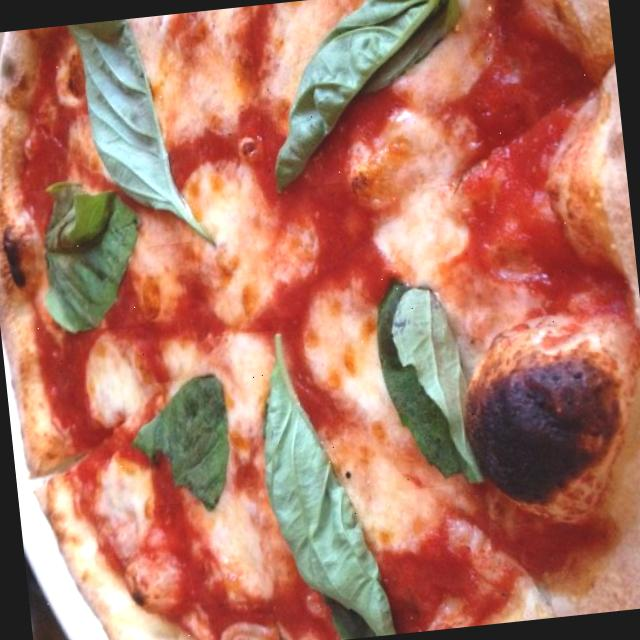basil: (250, 0, 477, 189), (246, 331, 384, 640), (66, 12, 209, 252), (372, 263, 487, 491), (27, 180, 144, 333), (127, 375, 237, 507)
cheese: (260, 0, 504, 100), (185, 158, 320, 324), (366, 110, 475, 286), (328, 422, 459, 548), (137, 6, 255, 144), (298, 302, 397, 428), (180, 485, 274, 606), (120, 195, 187, 322), (85, 454, 162, 560), (210, 330, 282, 439), (77, 327, 152, 429)
pizza: (0, 0, 640, 640)
